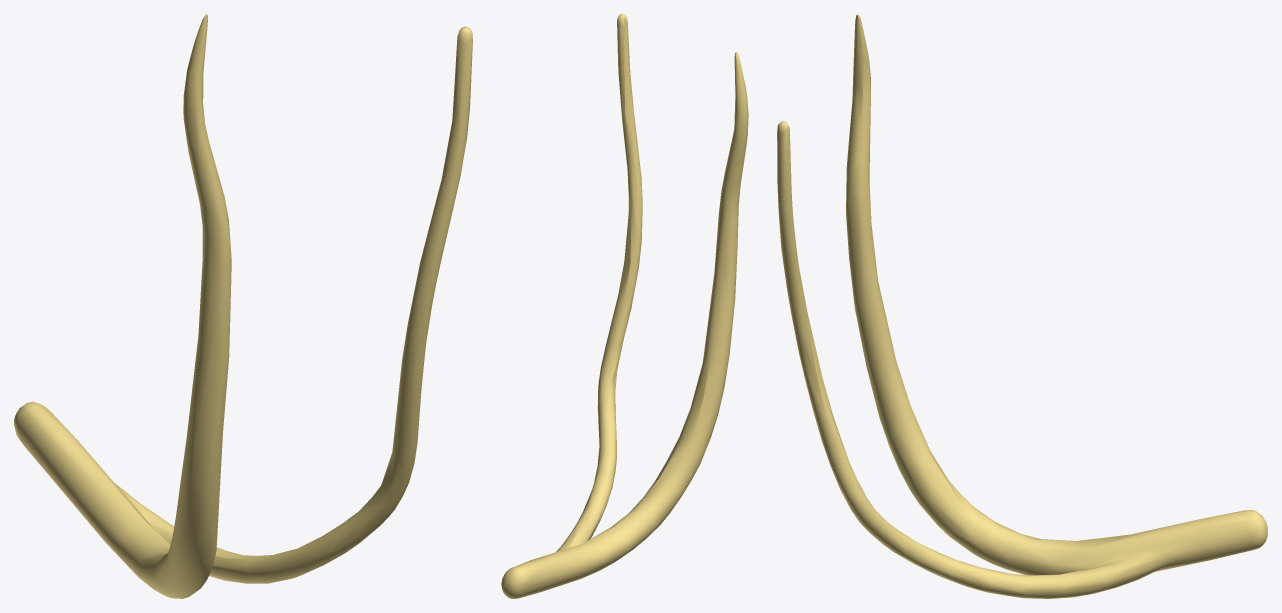
Rendered from fma52656_fj4022.glb.
The picture shows the model from 3 angles, left to right: view 1: azimuth 30°, elevation 25°; view 2: azimuth 150°, elevation 25°; view 3: azimuth 270°, elevation 25°; orthographic projection. The views are drawn at different scales.
Visible parts, largest first — view 1: FMA52656_FJ4022; view 2: FMA52656_FJ4022; view 3: FMA52656_FJ4022.
Boxes of the visible parts, <box> form: FMA52656_FJ4022: <box>14,14,472,598</box>; FMA52656_FJ4022: <box>501,14,748,598</box>; FMA52656_FJ4022: <box>777,14,1267,598</box>.
Size of the model in its own units: 0.00661 by 0.0179 by 0.0148.
